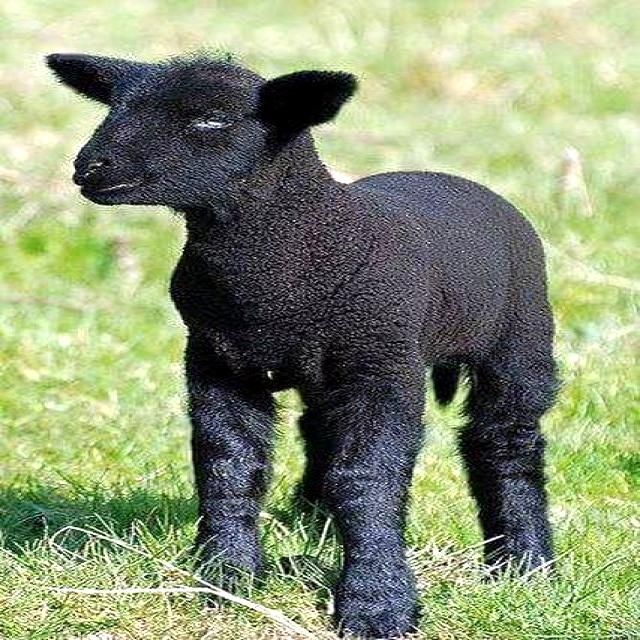sheep: (50, 54, 556, 637)
